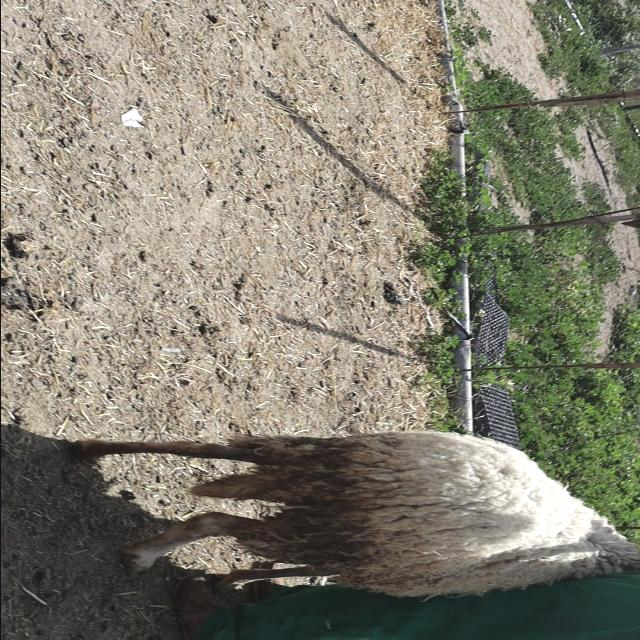Score_4: (72, 430, 640, 596)
